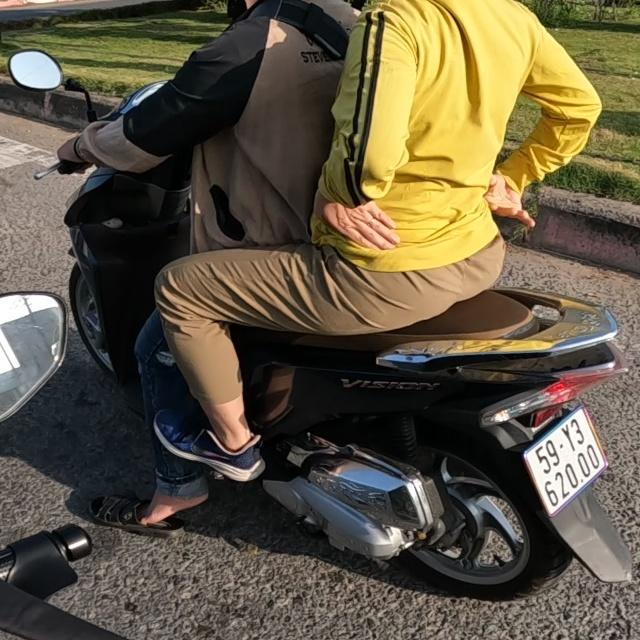license-plate: (517, 405, 611, 518)
